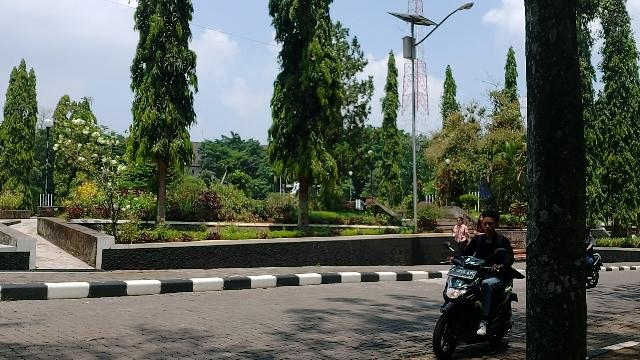motor: (432, 241, 520, 360)
non-helm: (482, 210, 502, 238)
